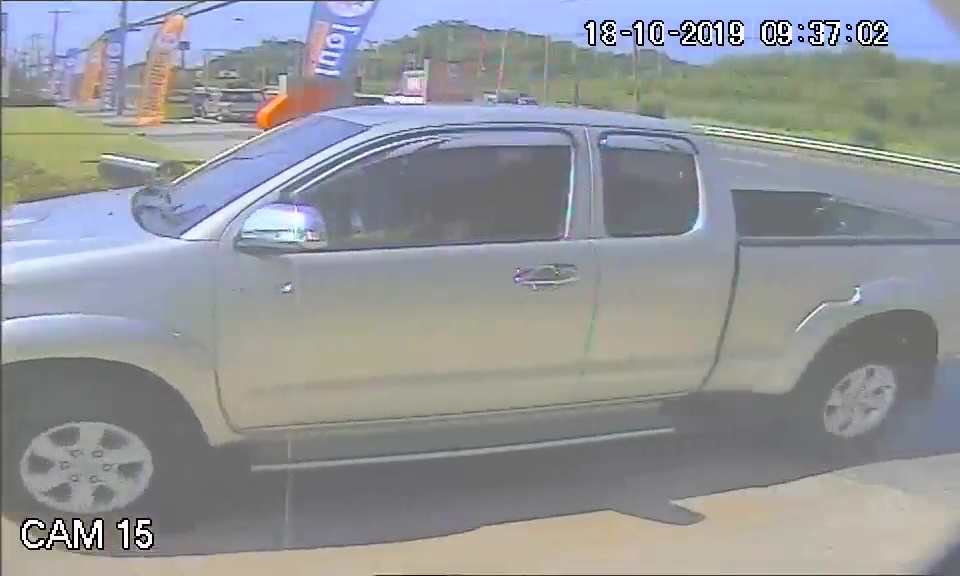pickup: (1, 102, 960, 478)
